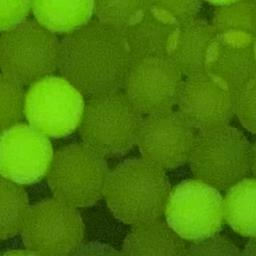negative: (63, 21, 133, 94), (104, 159, 171, 224), (191, 124, 251, 190), (82, 92, 142, 157), (50, 144, 110, 205), (24, 199, 84, 256), (0, 24, 60, 80), (138, 111, 194, 168), (127, 56, 183, 113), (204, 31, 256, 90), (124, 7, 181, 58), (182, 74, 235, 126), (165, 20, 218, 72), (121, 222, 188, 256), (0, 174, 28, 239), (215, 5, 255, 44), (0, 70, 25, 129), (93, 0, 145, 28), (232, 77, 256, 136), (146, 0, 199, 26), (187, 235, 242, 256), (70, 238, 122, 256), (244, 236, 256, 256), (142, 153, 145, 153)
positive: (22, 75, 87, 136), (164, 179, 226, 240), (0, 125, 54, 186), (32, 0, 98, 33), (222, 176, 256, 237), (0, 0, 33, 32)
